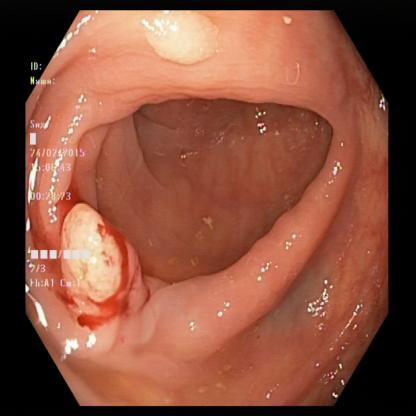Labels: (26, 55, 95, 294)
Polyps: (61, 204, 140, 318), (138, 9, 230, 69)
